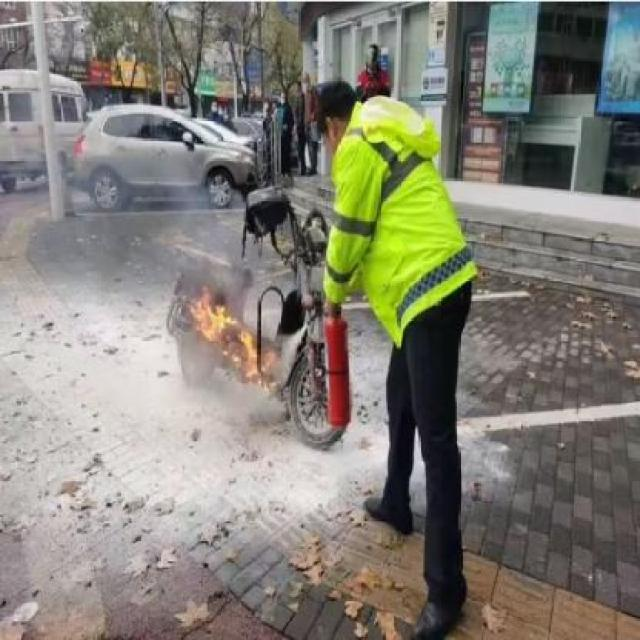Fire: (194, 292, 237, 346), (238, 326, 260, 382)
Smoke: (166, 204, 240, 300)
